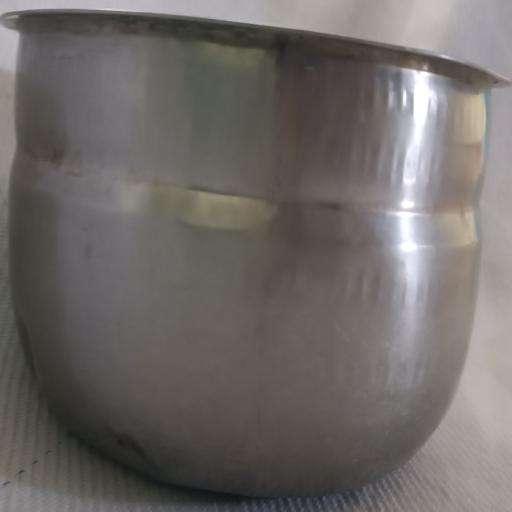vessel: (2, 12, 505, 495)
